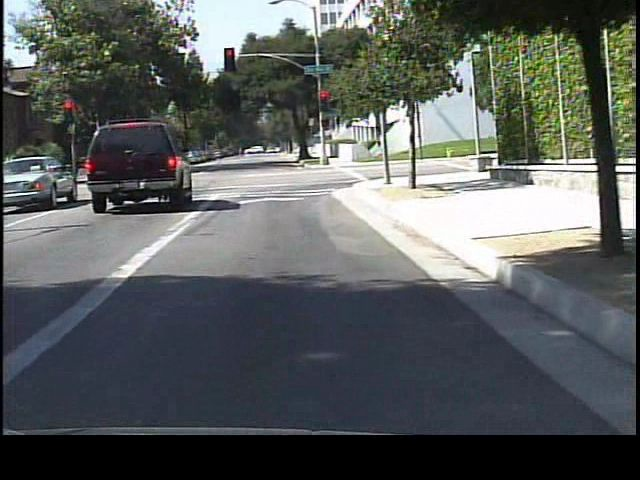person: (372, 132, 391, 167)
